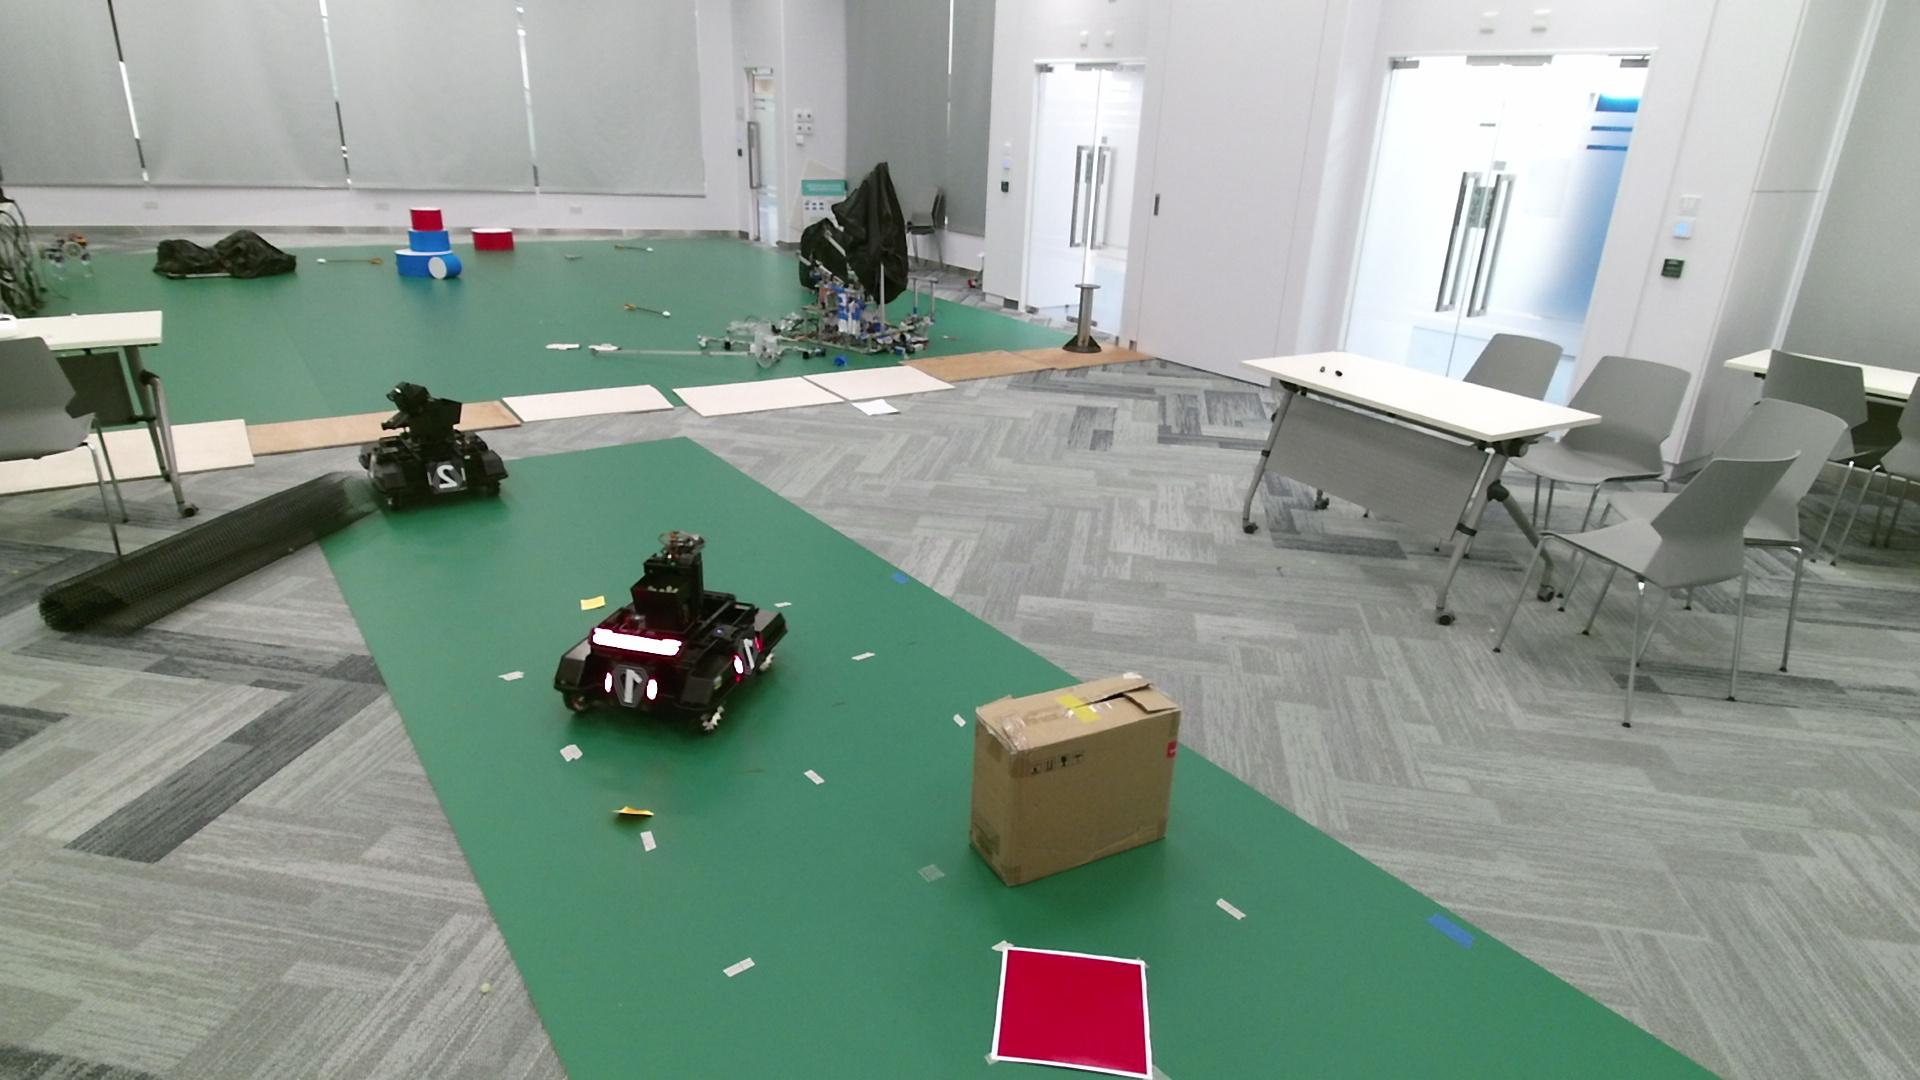robot: (553, 530, 790, 735), (357, 380, 510, 508)
